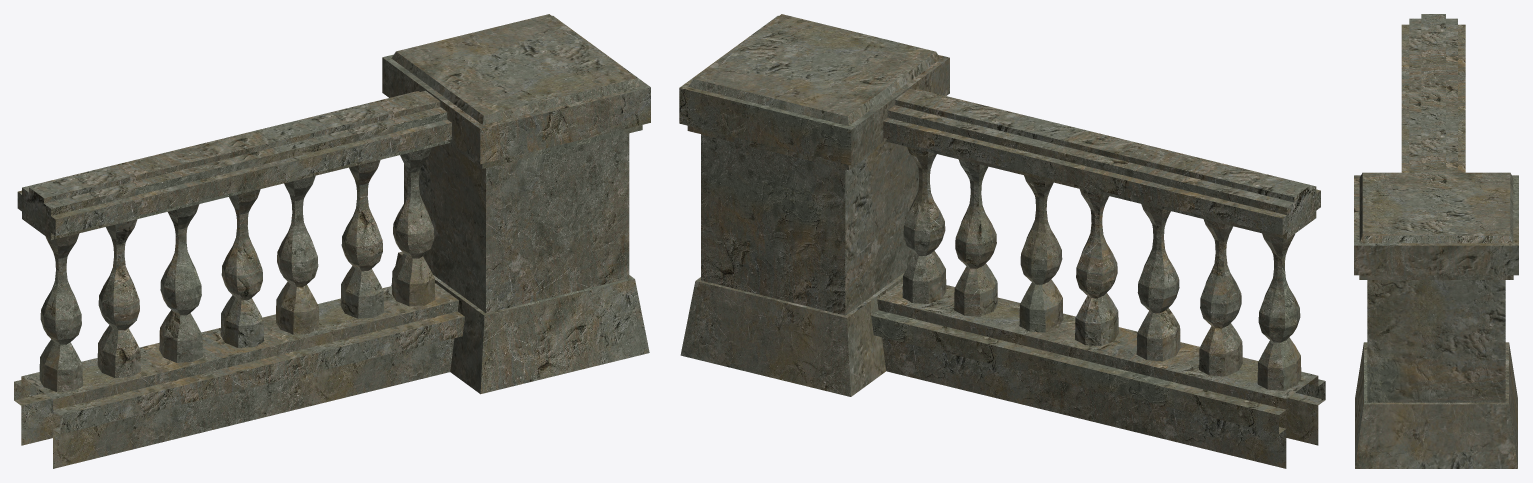
The model's file is SideFence.fbx.
3 renders of one model, left to right at view 1: azimuth 30°, elevation 25°; view 2: azimuth 150°, elevation 25°; view 3: azimuth 270°, elevation 25°, orthographic. The views are drawn at different scales.
Parts seen in each view (by area): view 1: Box004; view 2: Box004; view 3: Box004.
Part boxes in pixels (box(x1,y1,x2,y2)): Box004: box(14, 14, 650, 468); Box004: box(679, 14, 1325, 468); Box004: box(1354, 14, 1518, 468).
Bounding box in the file's own units: 3.46 × 1.59 × 1.03.
Materials: 1 (1 with a texture image).
